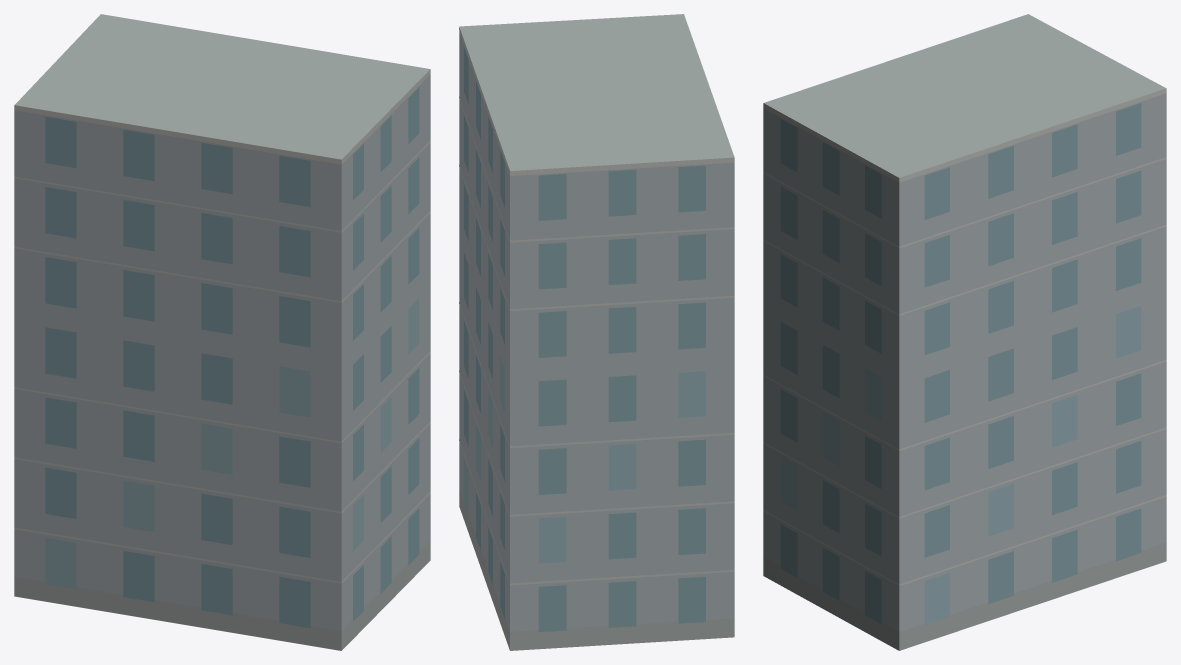
File: survey-upis-33045555.glb
The picture shows the model from 3 angles, left to right: view 1: azimuth 30°, elevation 25°; view 2: azimuth 150°, elevation 25°; view 3: azimuth 270°, elevation 25°; orthographic projection. The views are drawn at different scales.
Parts seen in each view (by area): view 1: survey-upis-33045555.tmp; view 2: survey-upis-33045555.tmp; view 3: survey-upis-33045555.tmp.
Part boxes in pixels (left/top/right/bottom): survey-upis-33045555.tmp: left=14, top=14, right=430, bottom=650; survey-upis-33045555.tmp: left=459, top=14, right=734, bottom=650; survey-upis-33045555.tmp: left=763, top=14, right=1166, bottom=650.
Bounding box in the file's own units: 17.57 × 23.6 × 18.25.
